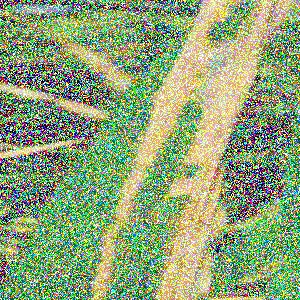Leaf_Blast: (48, 2, 249, 300)
